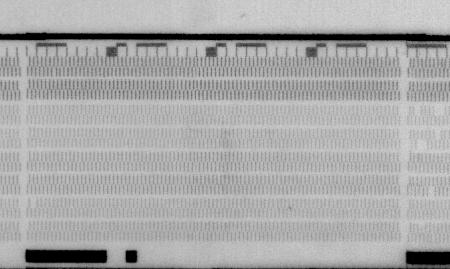Broken hole: (431, 103, 448, 115), (415, 139, 429, 152), (413, 104, 423, 118), (426, 187, 438, 198), (27, 198, 38, 209), (433, 128, 443, 140)
Oblique printing: (417, 223, 427, 235)
